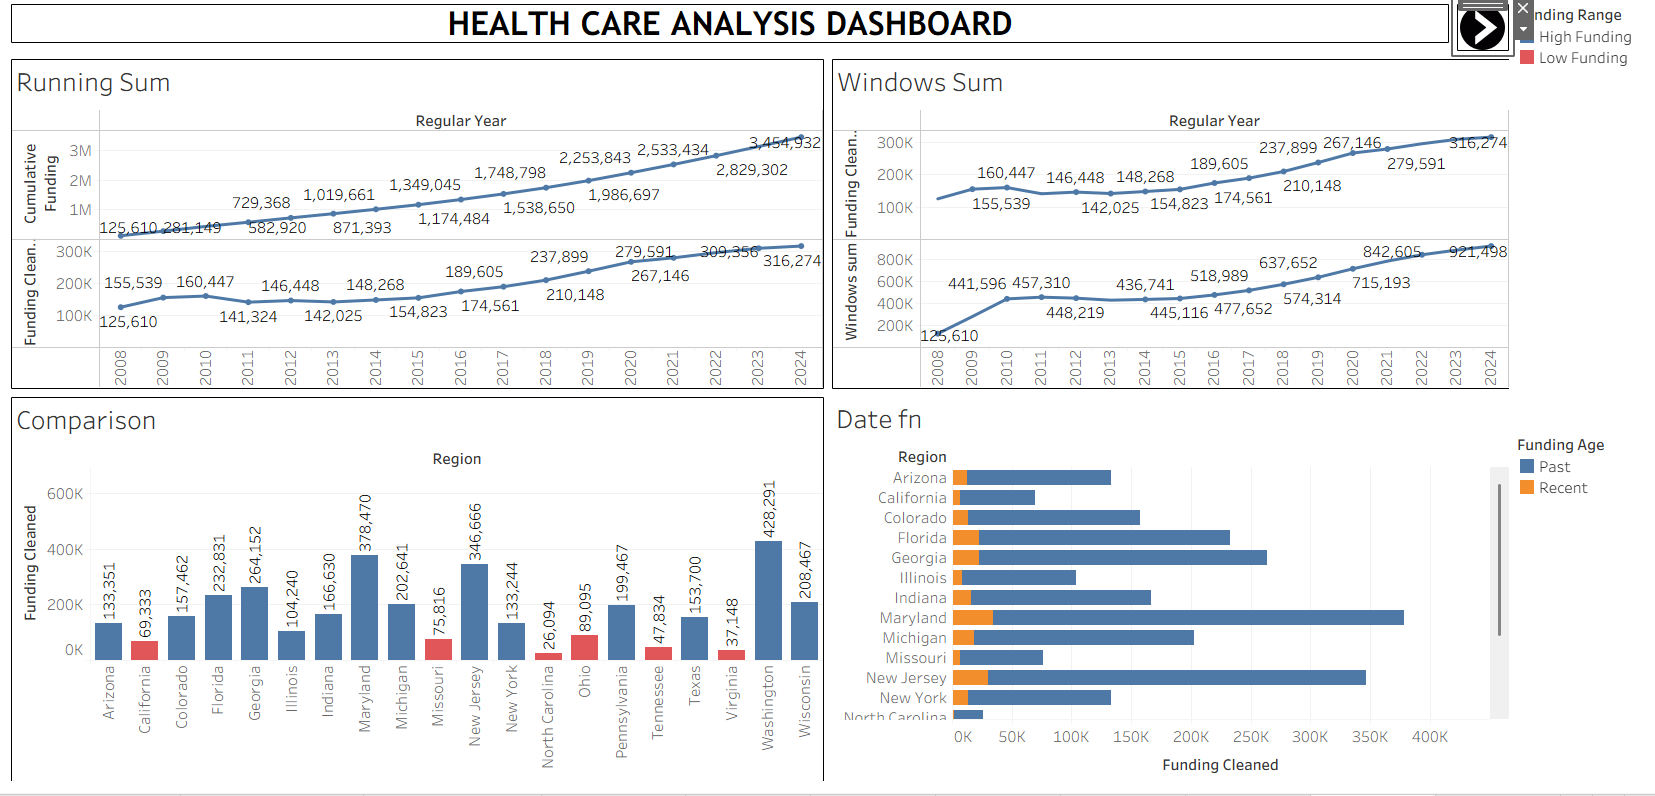

The dashboard page shown, as its layout file describes it:
{"tool":"tableau","page":{"name":"Dashboard 6","canvas":[1000,1000],"units":"permille","ordinal":5},"visuals":[{"type":"text","box":[4.8,10,872.7,58.7]},{"type":"dashboard-object","box":[877.5,10,36.2,68.7]},{"type":"legend","title":"Comparison","param":"[federated.0bgmugz1a1cw1t11nrt9d1o7sp34].[usr:Calculation_1175158031944069131:nk","box":[913.7,10,81.5,536.8]},{"type":"worksheet","title":"Running Sum","mark":"Automatic","rows":["Calculation_1175158031916187652","Calculation_335518175856336896"],"cols":["Calculation_335518175857041411"],"box":[4.8,78.7,495.2,421.4]},{"type":"worksheet","title":"Windows Sum","mark":"Automatic","rows":["Calculation_335518175856336896","Calculation_1175158031921532933"],"cols":["Calculation_335518175857041411"],"box":[500,78.7,413.7,421.4]},{"type":"worksheet","title":"Comparison","mark":"Automatic","rows":["Calculation_335518175856336896"],"cols":["Region"],"box":[4.8,500,495.2,490]},{"type":"worksheet","title":"Date fn","mark":"Automatic","rows":["Region"],"cols":["Calculation_335518175856336896"],"box":[500,500,413.7,490]},{"type":"legend","title":"Date fn","param":"[federated.0bgmugz1a1cw1t11nrt9d1o7sp34].[none:Calculation_1175158031953346574:n","box":[913.7,546.8,81.5,443.2]}]}

Visuals, with their boxes on the dashboard's canvas, which has no fixed pixel size, in thousandths of its width and height (x1, y1, x2, y2). These are canvas units, not pixel positions in the 1655x796 screenshot, which may show the page scaled, cropped or inside an application window:
text: bbox=(5, 10, 878, 69)
dashboard-object: bbox=(878, 10, 914, 79)
"Comparison" legend: bbox=(914, 10, 995, 547)
"Running Sum" worksheet: bbox=(5, 79, 500, 500)
"Windows Sum" worksheet: bbox=(500, 79, 914, 500)
"Comparison" worksheet: bbox=(5, 500, 500, 990)
"Date fn" worksheet: bbox=(500, 500, 914, 990)
"Date fn" legend: bbox=(914, 547, 995, 990)
